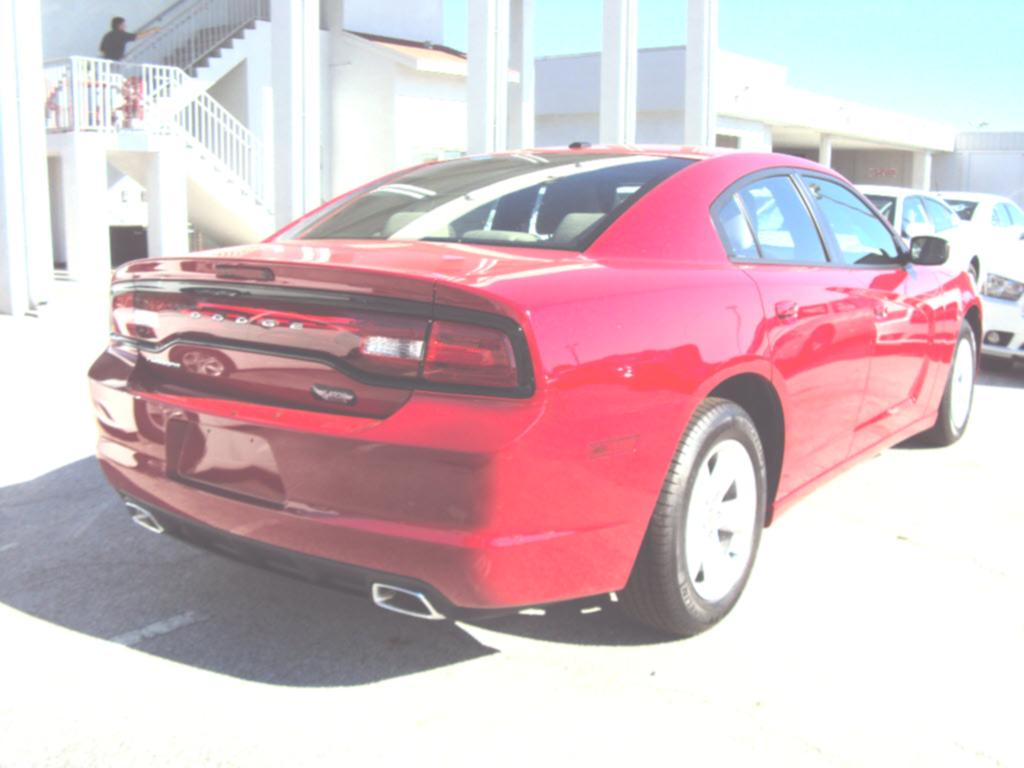dodge: (185, 303, 311, 344)
